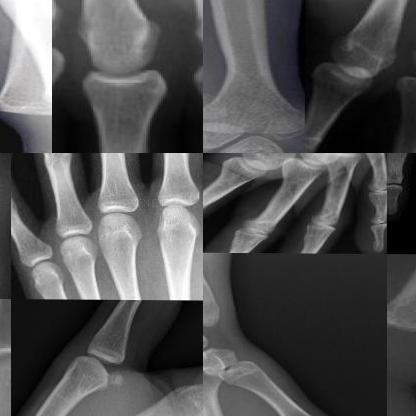fracture: (387, 282, 415, 353)
